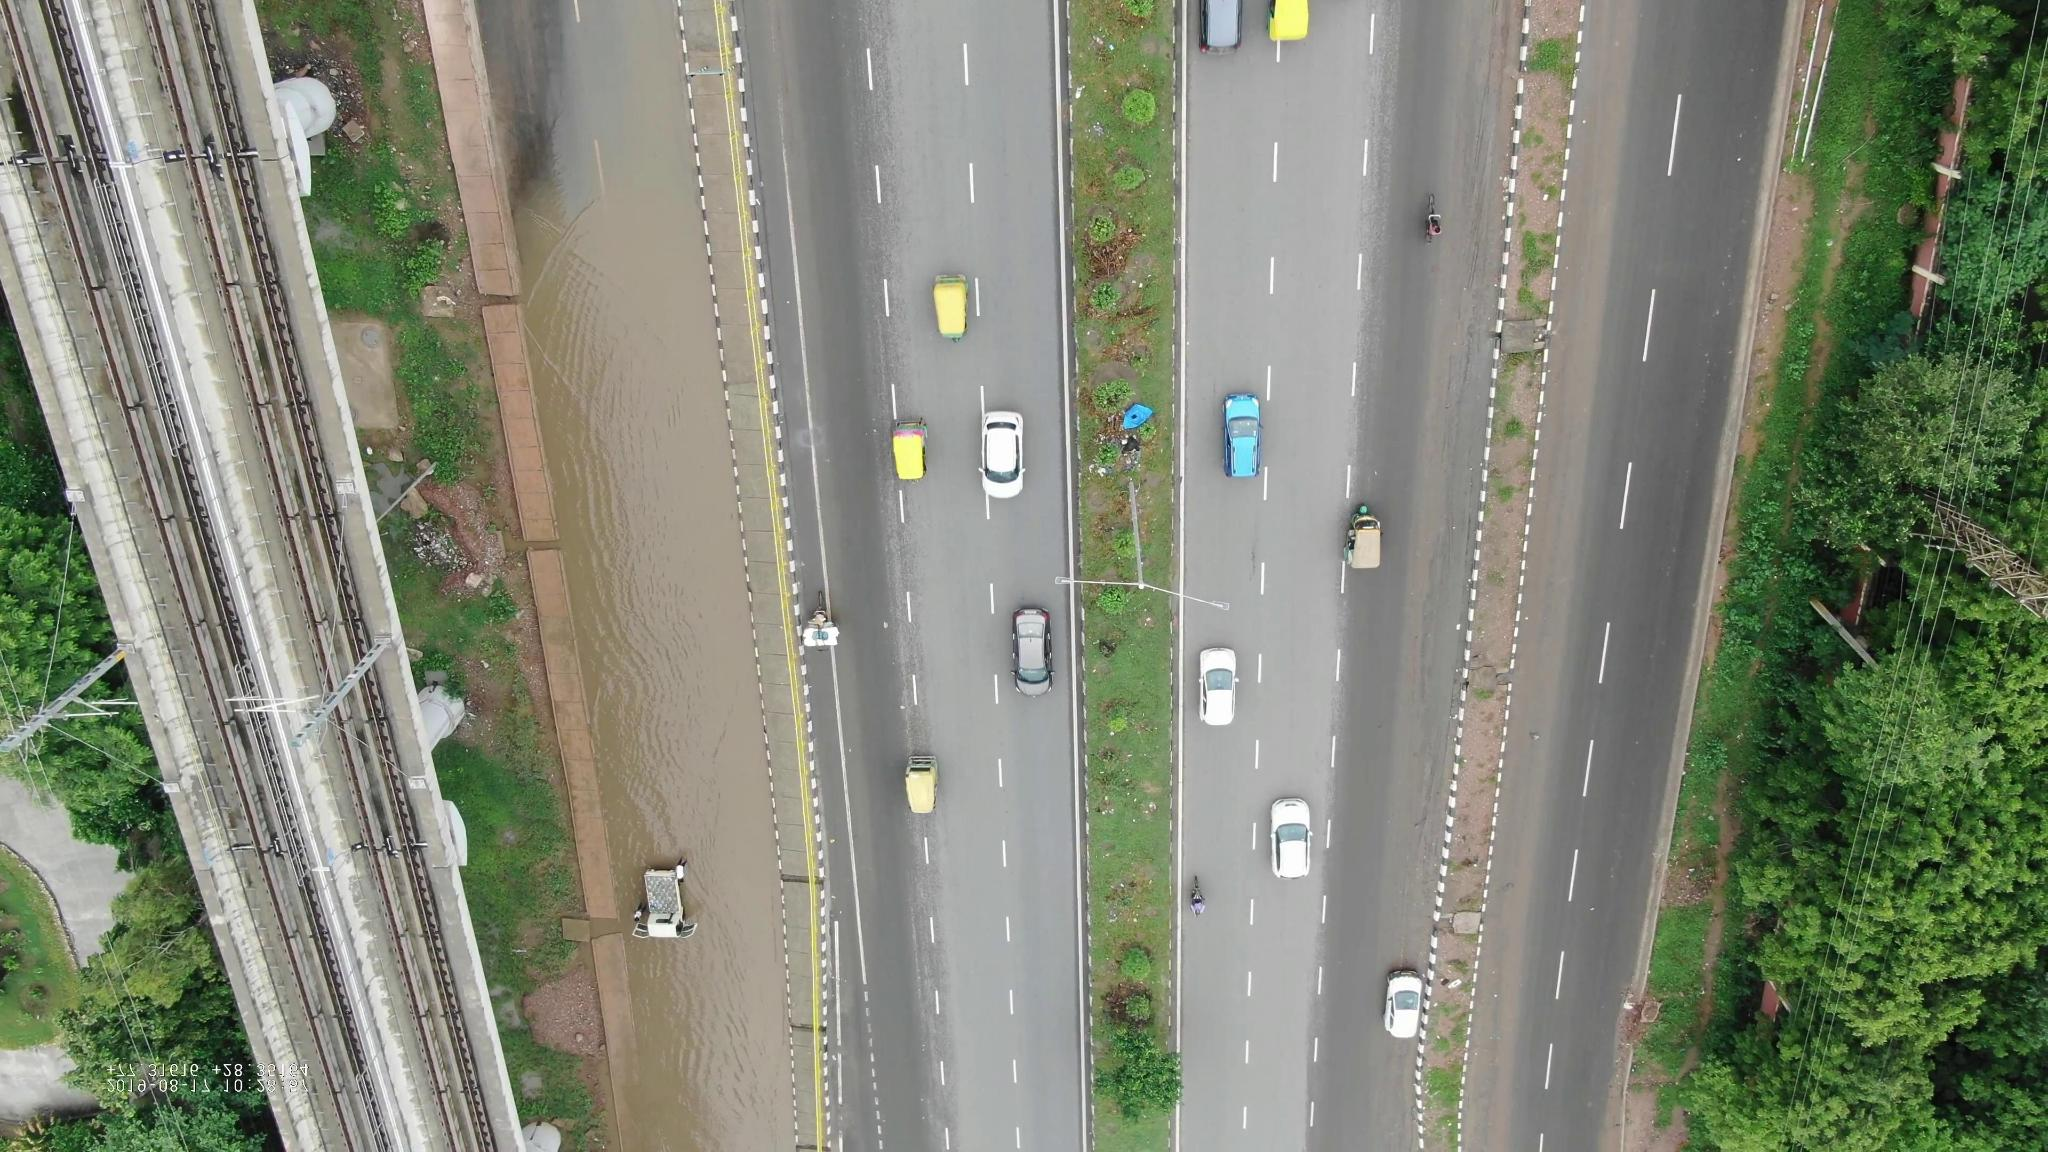Muddy_road: (1385, 582, 1470, 881), (1428, 242, 1498, 554)
Ravelling: (900, 852, 969, 1139), (878, 497, 949, 743)
Waterlogging: (506, 193, 755, 682), (587, 691, 796, 1152)
